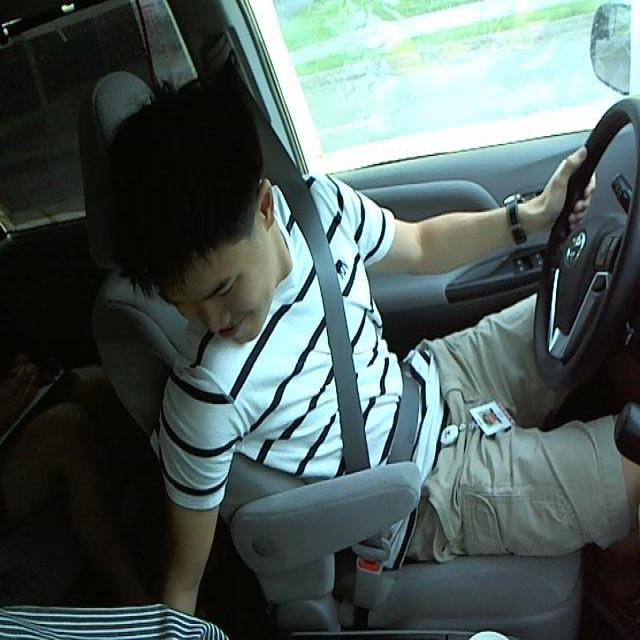seatbelt: (295, 219, 427, 476)
